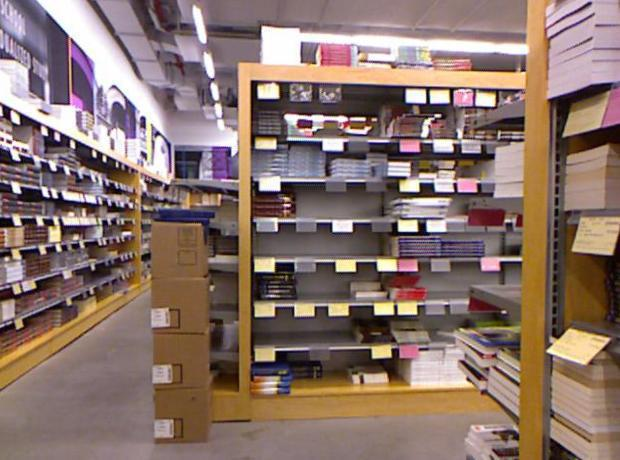Armario: (524, 0, 618, 455), (0, 98, 138, 384)
